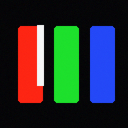4 line_v: (37, 25, 43, 85)
